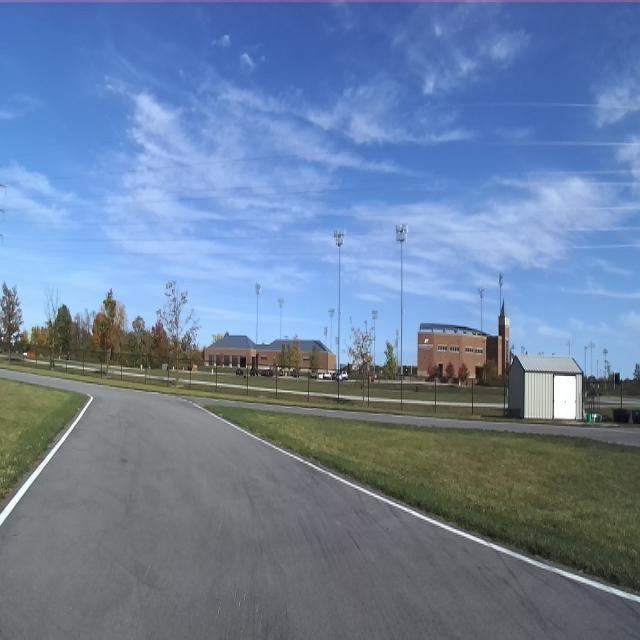white-line: (190, 401, 640, 603), (0, 395, 93, 525)
